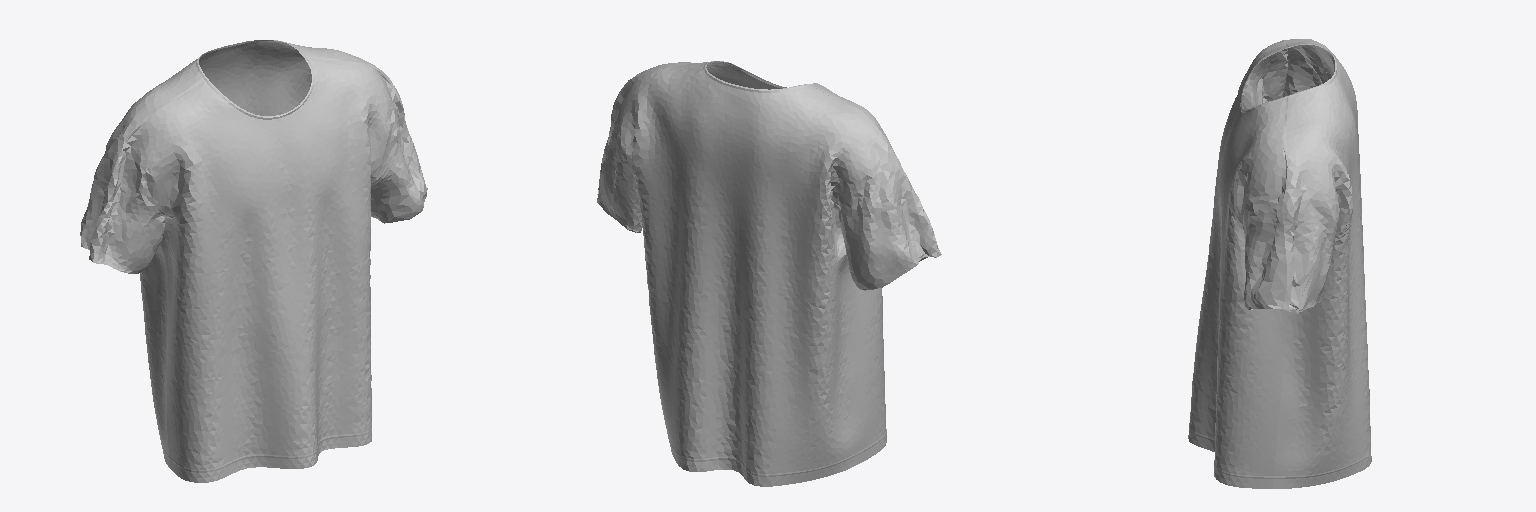
File: Small_Short.obj
3 views of the same model, side by side, from view 1: azimuth 30°, elevation 25°; view 2: azimuth 150°, elevation 25°; view 3: azimuth 270°, elevation 25° (orthographic).
Visible parts, largest first — view 1: 短袖.004; view 2: 短袖.004; view 3: 短袖.004.
Boxes of the visible parts, box(x1,y1,x2,y2) form: 短袖.004: box(80, 40, 427, 482); 短袖.004: box(597, 61, 941, 486); 短袖.004: box(1188, 39, 1371, 488).
Bounding box in the file's own units: 0.5718 × 0.6203 × 0.2694.